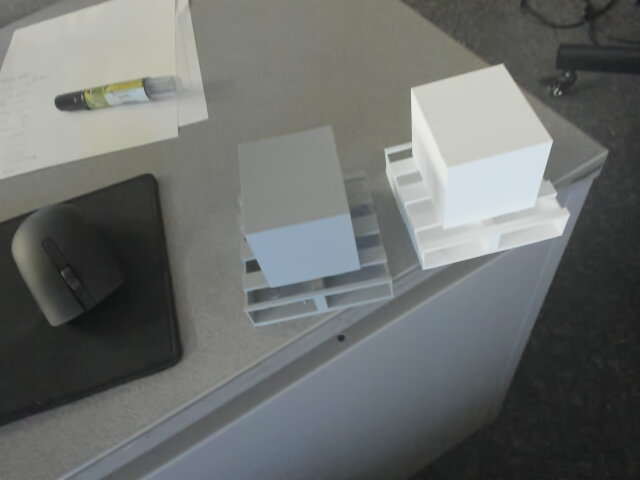grey pallet: (212, 121, 401, 330), (303, 120, 306, 122)
white pallet: (380, 58, 577, 276), (118, 451, 167, 465)
